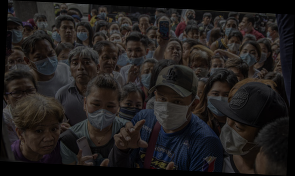mask_weared_incorrect: (125, 47, 146, 68), (188, 31, 202, 44), (22, 27, 34, 40), (240, 19, 250, 34)
with_mask: (152, 93, 191, 131), (218, 117, 254, 158), (85, 99, 118, 131), (33, 48, 59, 76), (206, 90, 230, 119), (118, 99, 143, 124), (6, 55, 31, 72), (240, 48, 258, 68), (7, 24, 24, 45), (191, 62, 210, 80), (141, 67, 154, 91), (117, 49, 130, 67), (224, 22, 238, 38), (228, 39, 242, 54), (147, 33, 160, 49), (209, 63, 225, 76), (59, 52, 72, 67), (257, 47, 268, 64), (76, 28, 89, 42), (144, 46, 157, 60), (36, 18, 49, 31), (51, 29, 62, 43), (109, 26, 122, 36), (110, 35, 121, 46), (97, 27, 109, 37), (199, 33, 208, 46), (195, 88, 204, 101), (186, 12, 195, 21), (100, 9, 108, 19), (120, 21, 130, 29), (60, 6, 68, 15), (266, 29, 272, 40), (117, 15, 125, 23), (74, 19, 81, 28), (170, 14, 177, 23), (154, 11, 159, 21), (89, 11, 94, 18)
without_mask: (27, 120, 62, 156), (70, 56, 98, 85), (7, 84, 37, 108), (98, 53, 118, 75), (163, 44, 182, 64), (59, 25, 76, 42), (139, 21, 151, 34), (181, 45, 190, 61), (276, 57, 284, 75), (205, 16, 211, 24)
